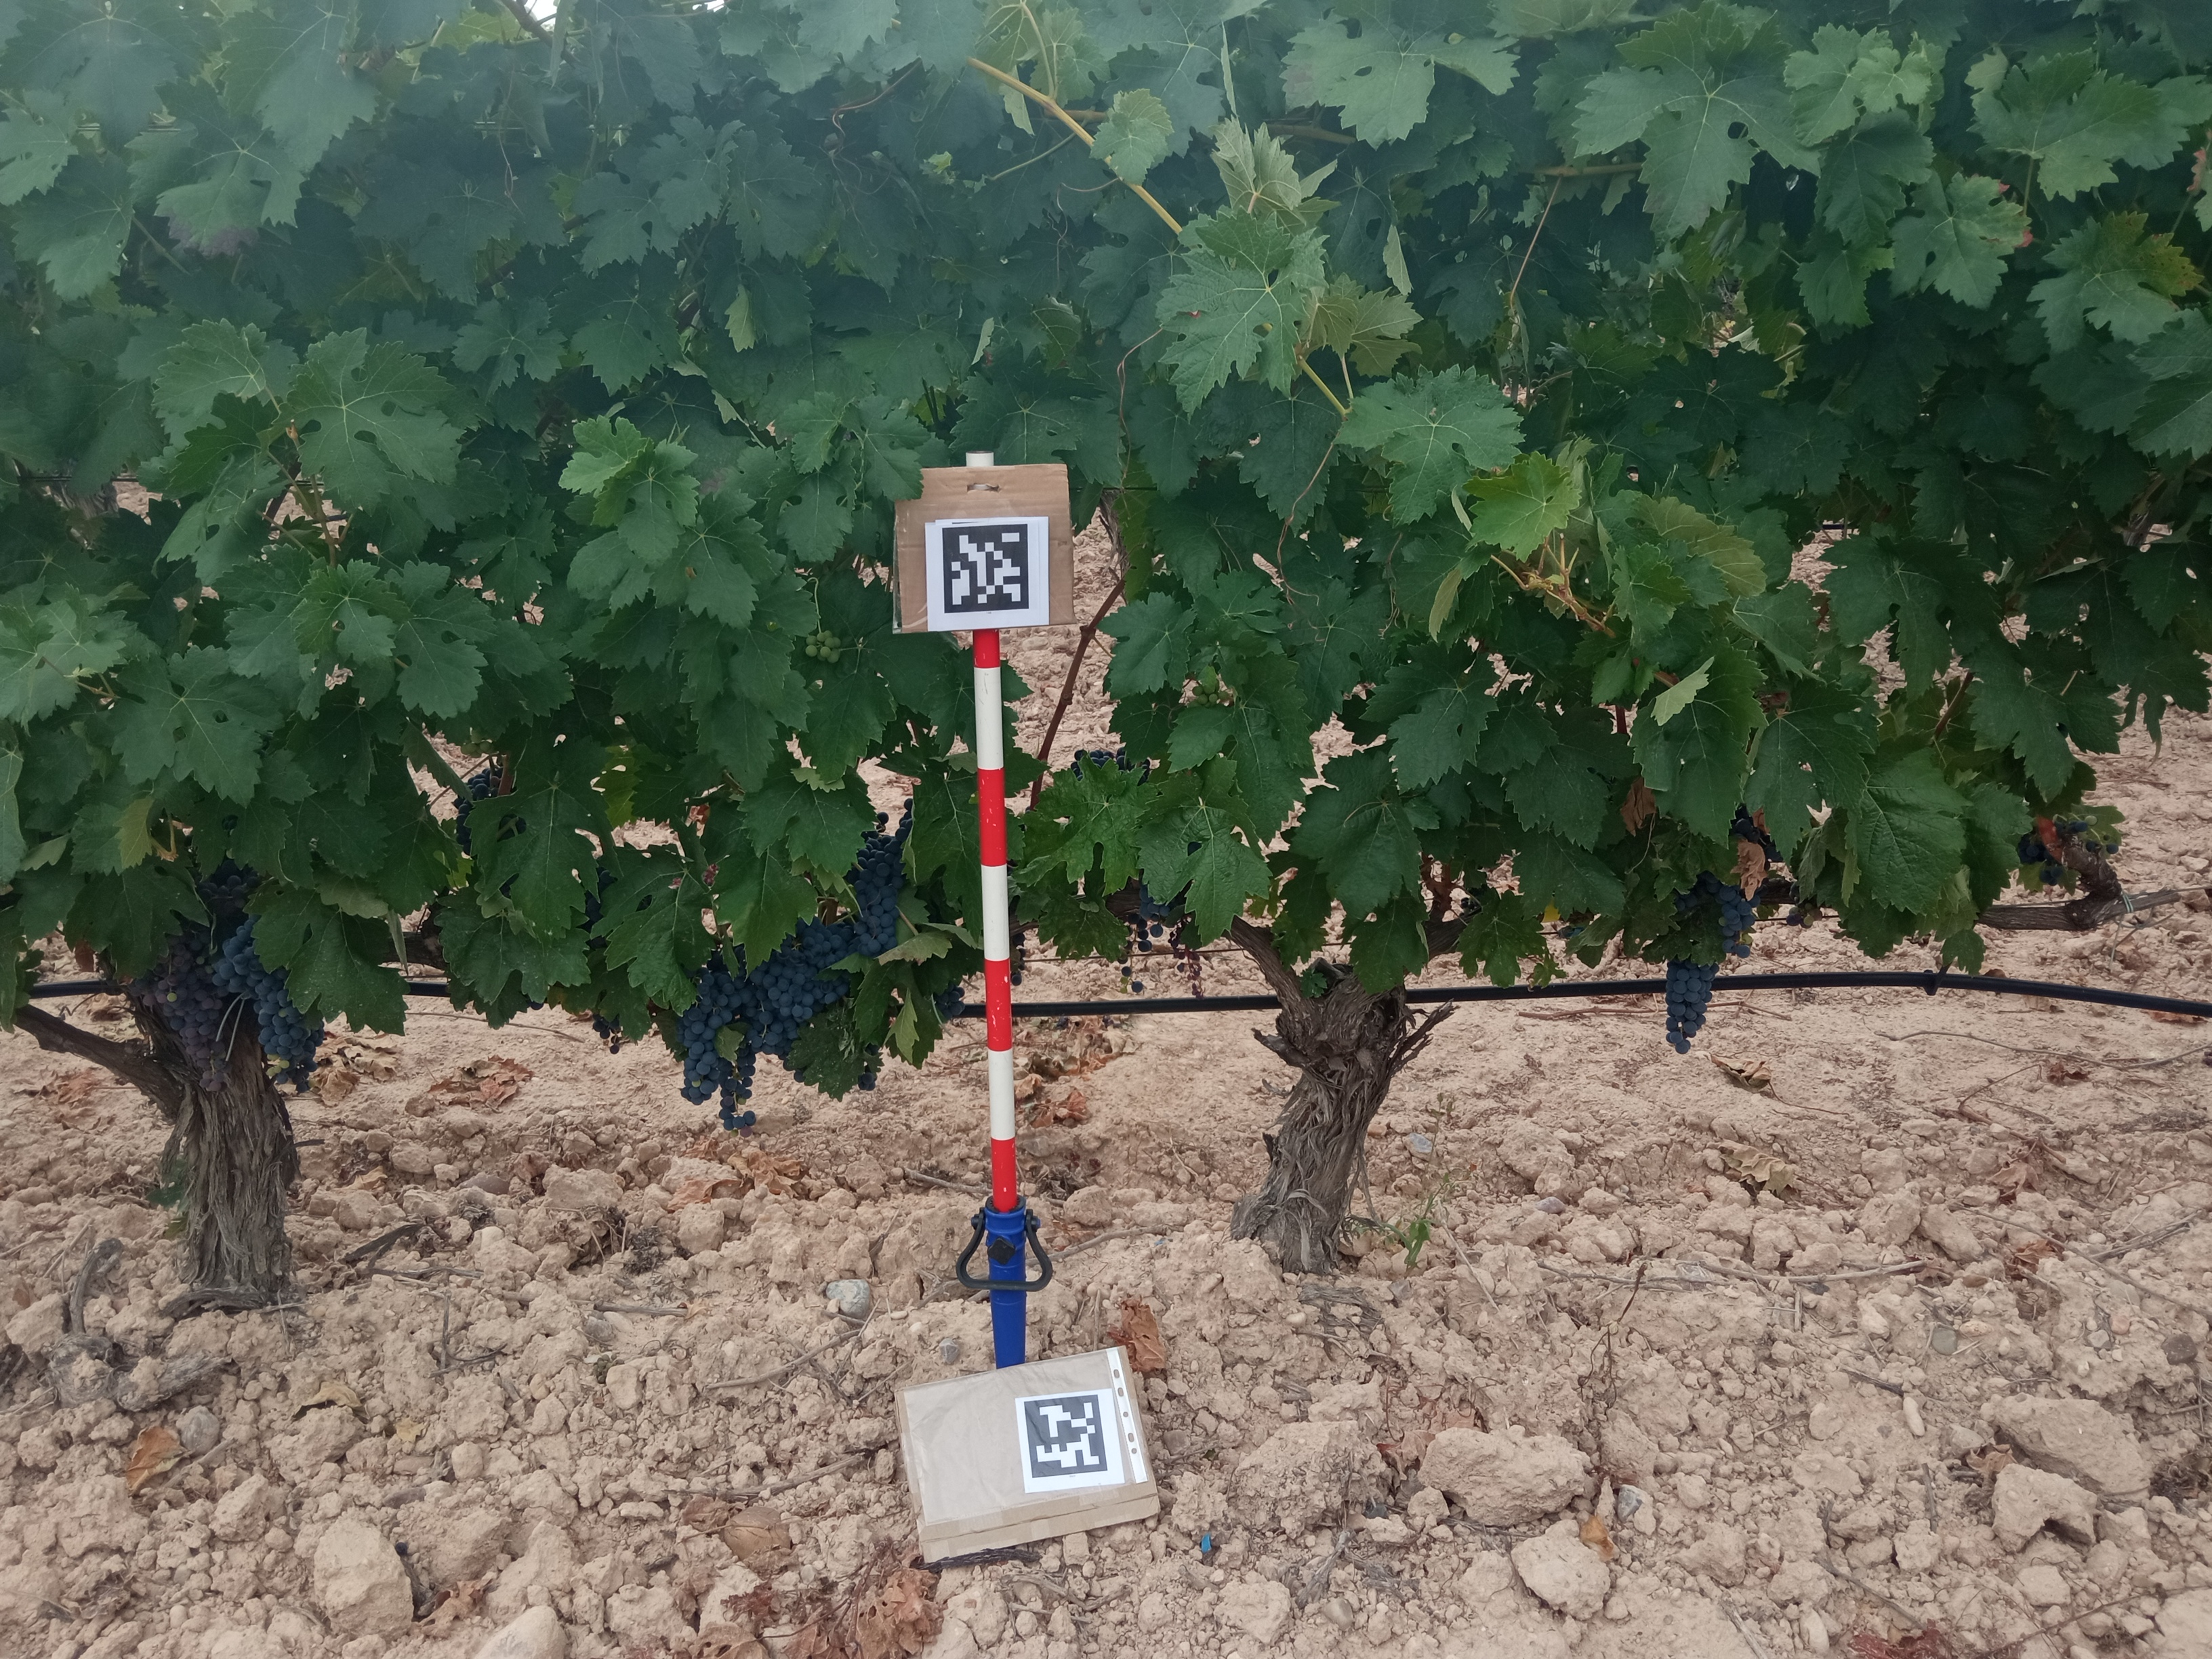grapes: (120, 922, 230, 1098), (216, 920, 320, 1096), (752, 915, 848, 1060), (676, 969, 751, 1127), (850, 798, 911, 953), (1674, 870, 1754, 957), (2012, 814, 2090, 885), (1665, 958, 1714, 1054), (455, 762, 505, 847), (199, 859, 263, 910), (1071, 746, 1150, 781), (1122, 911, 1153, 995), (1735, 812, 1784, 861), (1137, 882, 1165, 938), (590, 1016, 627, 1056), (805, 627, 841, 666), (935, 981, 965, 1021), (1785, 899, 1825, 929), (1190, 678, 1231, 706), (855, 1065, 880, 1091), (1012, 969, 1024, 986)
